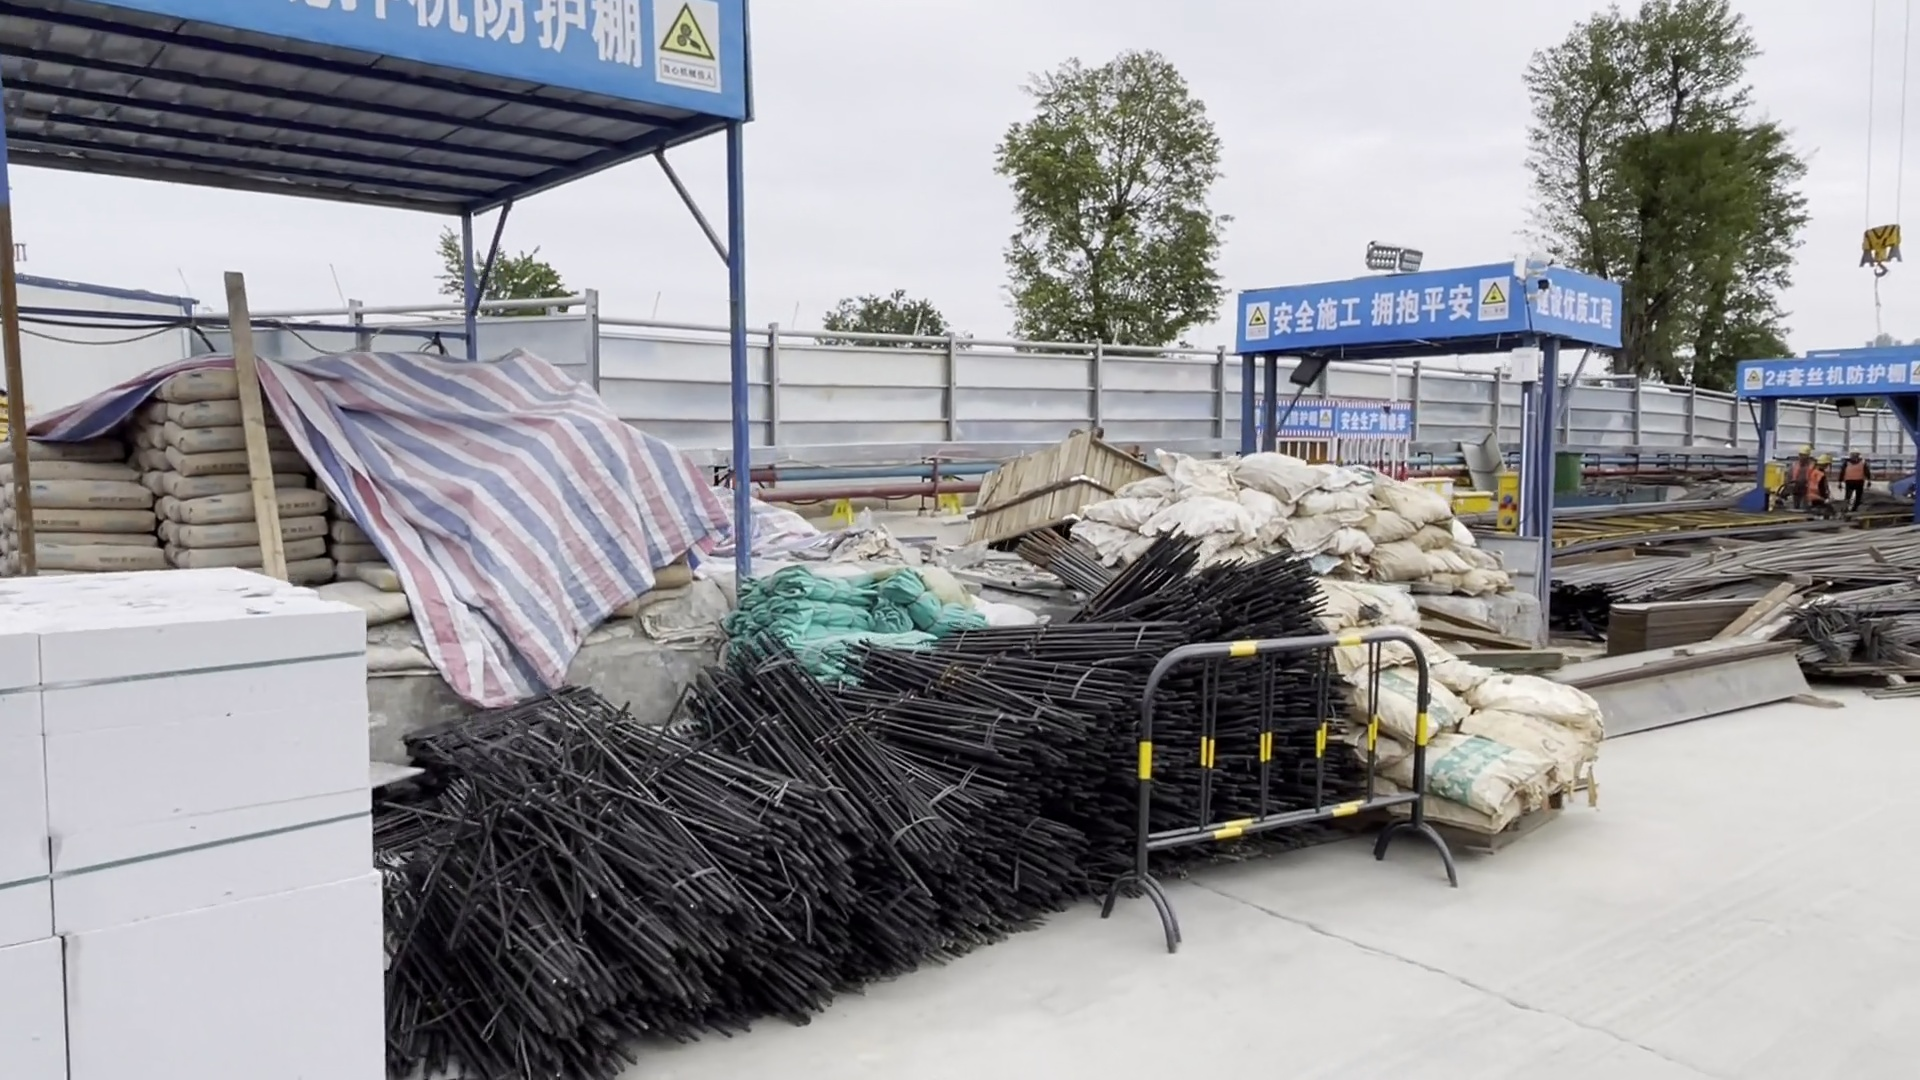brick: (31, 555, 367, 1051)
fence: (694, 335, 1238, 469), (1438, 372, 1746, 439)
helmet: (1814, 452, 1832, 467), (1797, 447, 1810, 460), (1849, 446, 1861, 455)
hook: (1861, 224, 1904, 277)
person: (1839, 444, 1868, 514), (1809, 453, 1831, 523), (1788, 442, 1811, 500)
slogan: (1230, 287, 1523, 336), (1751, 361, 1920, 400), (1529, 273, 1619, 343), (1339, 405, 1417, 431)
vest: (1807, 467, 1830, 500), (1845, 457, 1864, 484), (1793, 457, 1807, 483)
